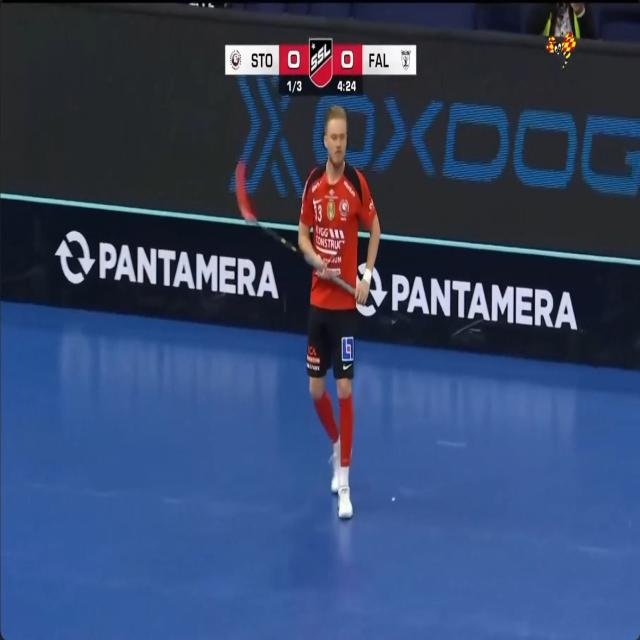player: (298, 106, 380, 517)
